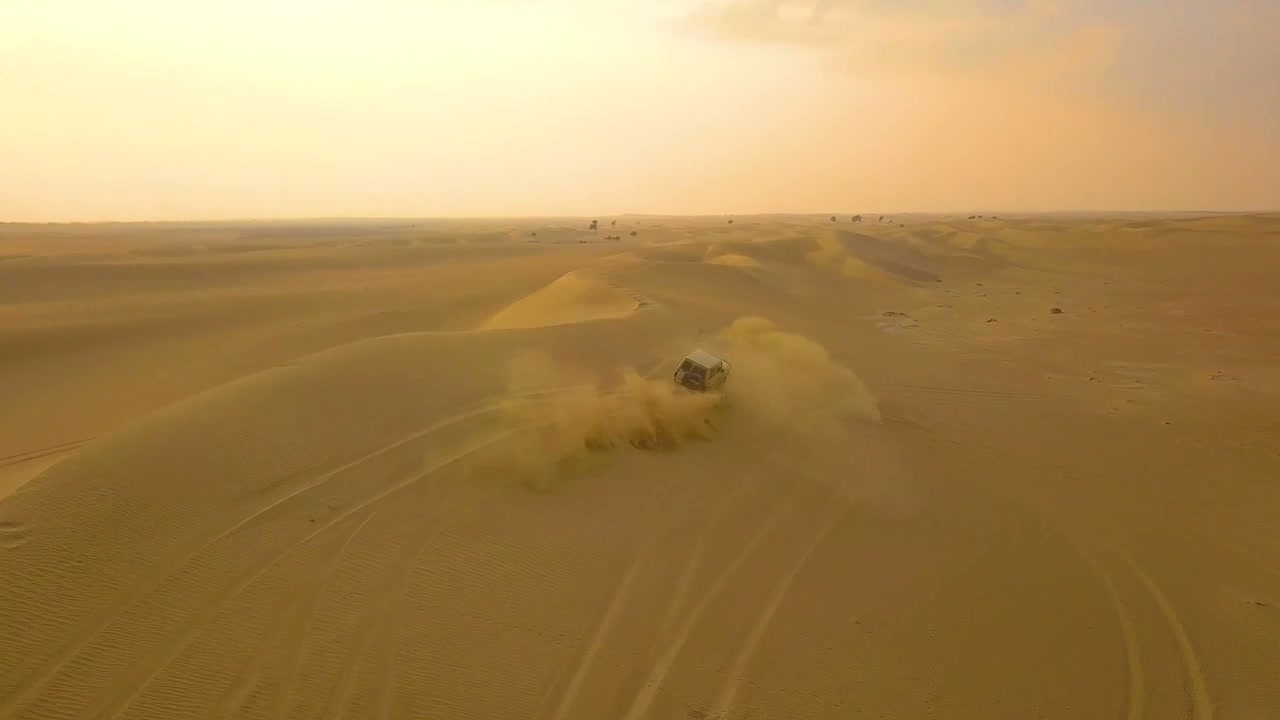vehicle_track: (0, 388, 563, 716), (87, 423, 544, 716), (533, 477, 766, 719), (984, 482, 1212, 719), (87, 520, 335, 717), (620, 496, 797, 719), (543, 486, 698, 719), (211, 512, 375, 717), (362, 484, 503, 717), (709, 497, 846, 716), (322, 501, 459, 719), (273, 511, 375, 717), (658, 478, 764, 633), (1120, 552, 1212, 719), (1064, 536, 1146, 719), (879, 383, 1064, 405), (0, 437, 94, 467), (0, 521, 30, 548)
